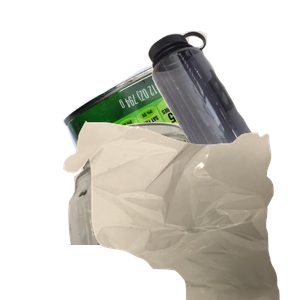glass: (61, 120, 287, 300)
metal: (60, 48, 300, 228)
plastic: (145, 28, 300, 192)
trash: (61, 120, 300, 300)
